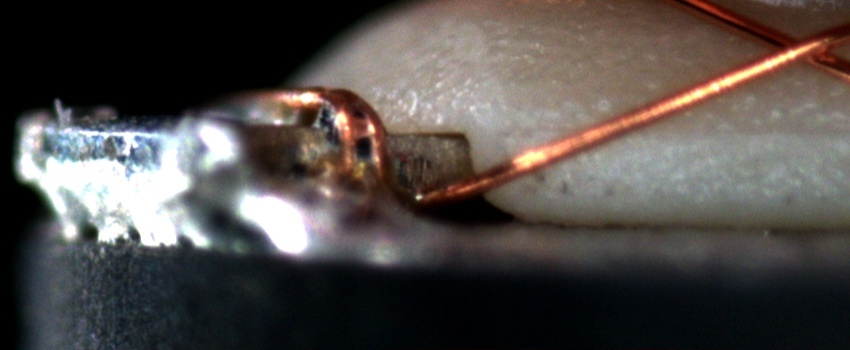CL: (744, 19, 842, 78)
DL: (530, 101, 850, 165)
TE: (243, 81, 402, 186)
